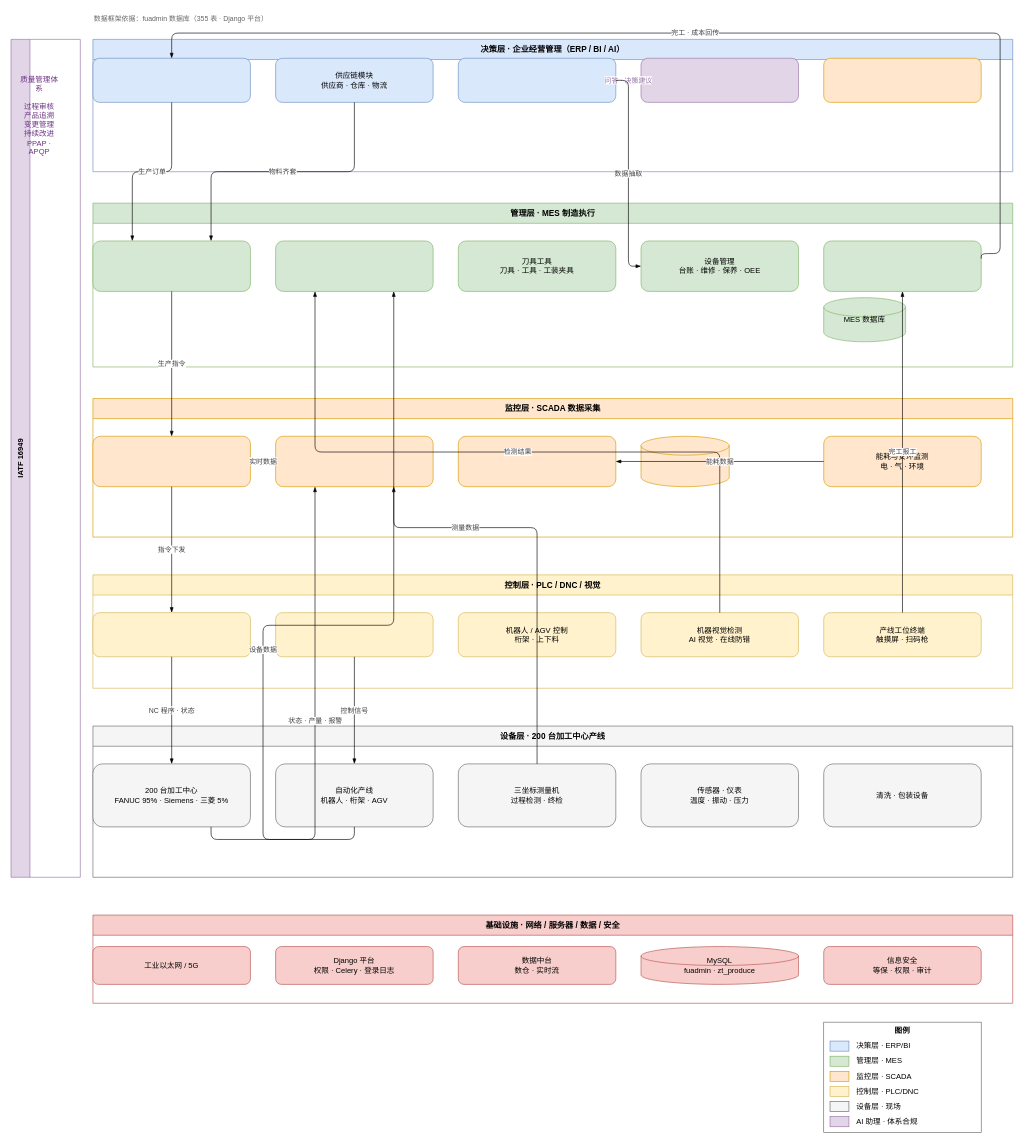
Image size: 1024x1143. Some labels were removed from this diagram. The shapes that lost their labels are listed below. From the top down, each one's centre as x and y in pixels, then its label:
the point at 171,80: ERP 经营模块 采购 · 结算 · 付款 · 财务
the point at 537,80: BI 报表 经营 · 工资 · 奖罚
the point at 719,80: AI 助理体系 大模型应用 · 数字助理 · 知识库
the point at 902,80: 外部数据对接 d / jzt / ym · ESB/API
the point at 171,265: 生产排程 newscheduling · 交付计划
the point at 354,265: 质量管理 不良 · 检验 · 校准 · 箱码
the point at 902,265: 报工与追溯 二维码 · 工位路由 · 历史工单
the point at 171,461: SCADA 实时监控 画面组态 · 报警管理
the point at 354,461: E38 采集网关 zj2315 · OPC UA · FOCAS
the point at 537,461: 边缘计算 数据清洗 · 规则引擎
the point at 684,461: 实时数据库
the point at 171,634: DNC 程序管理 NC 程序下发
the point at 354,634: PLC 控制系统
